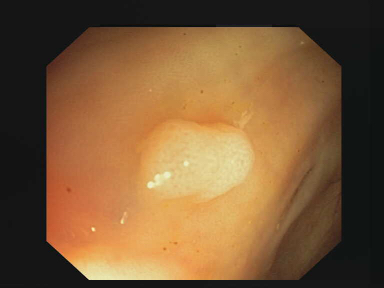polyp: (136, 116, 256, 208)
